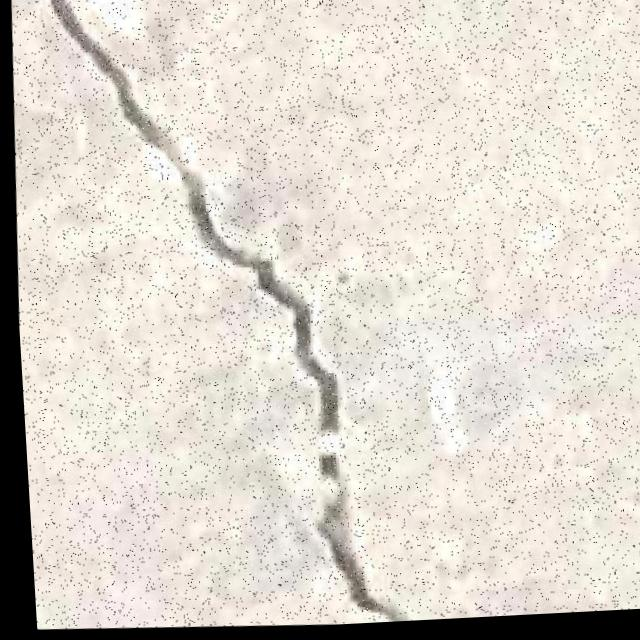Crack: (22, 0, 443, 639)
